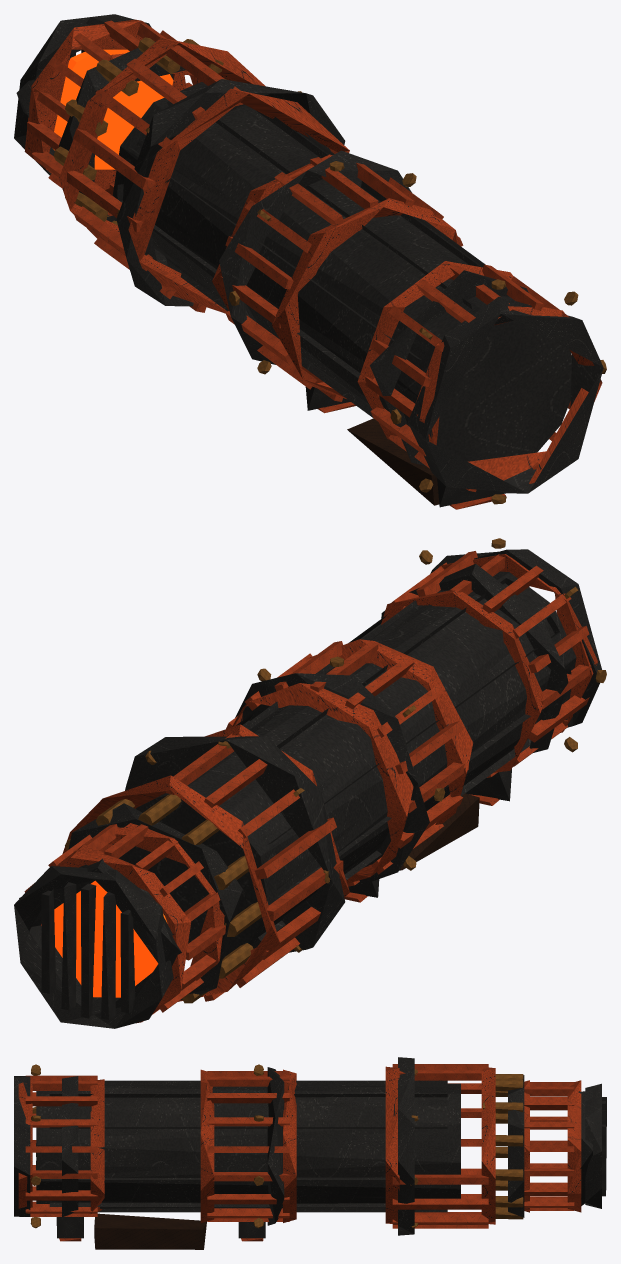
Rendered from kiln-focus-damaged-lod2.glb.
3 renders of one model, top to bottom at view 1: azimuth 30°, elevation 25°; view 2: azimuth 150°, elevation 25°; view 3: azimuth 270°, elevation 25°, orthographic. The views are drawn at different scales.
Visible parts, largest first — view 1: Forged barrel core, Machined barrel rim, Ceramic vent header, Machined barrel rim.003, Machined barrel rim.002, Ceramic vent header.003, Ceramic vent footer, Ceramic vent footer.001, Ceramic vent header.002, Machined barrel rim.001, Banked ember recessed chamber, Ceramic vent footer.002 (+27 smaller); view 2: Forged barrel core, Machined barrel rim.003, Muzzle lip, Ceramic vent footer.003, Ceramic vent footer, Machined barrel rim.002, Machined barrel rim.001, Machined barrel rim.004, Ceramic vent footer.002, Ceramic vent header.003, Ceramic vent footer.001, Banked ember recessed chamber (+36 smaller); view 3: Forged barrel core, Insulated palm grip, Machined barrel rim.003, Ceramic vent footer, Longitudinal iron stave.001, Machined barrel rim.002, Ceramic vent header, Ceramic vent header.003, Machined barrel rim.001, Muzzle lip, Machined barrel rim, Ceramic vent footer.003 (+48 smaller).
Boxes of the visible parts, box(x1,y1,x2,y2) form: Forged barrel core: box(112, 82, 571, 461); Machined barrel rim: box(408, 296, 603, 493); Ceramic vent header: box(128, 88, 349, 313); Machined barrel rim.003: box(116, 79, 345, 306); Machined barrel rim.002: box(219, 150, 411, 364); Ceramic vent header.003: box(271, 198, 459, 398); Ceramic vent footer: box(59, 37, 265, 238); Ceramic vent footer.001: box(24, 19, 185, 189); Ceramic vent header.002: box(416, 304, 602, 483); Machined barrel rim.001: box(370, 270, 528, 466); Banked ember recessed chamber: box(53, 49, 173, 169); Ceramic vent footer.002: box(357, 261, 513, 440); Forged barrel core: box(112, 571, 576, 956); Machined barrel rim.003: box(125, 736, 345, 952); Muzzle lip: box(14, 866, 173, 1028); Ceramic vent footer.003: box(232, 683, 413, 883); Ceramic vent footer: box(62, 775, 280, 1001); Machined barrel rim.002: box(235, 673, 429, 889); Machined barrel rim.001: box(381, 563, 568, 753); Machined barrel rim.004: box(68, 803, 242, 1000); Ceramic vent footer.002: box(381, 590, 544, 772); Ceramic vent header.003: box(308, 639, 473, 824); Ceramic vent footer.001: box(24, 844, 191, 1023); Banked ember recessed chamber: box(54, 880, 167, 997); Forged barrel core: box(36, 1083, 460, 1208); Insulated palm grip: box(94, 1213, 206, 1249); Machined barrel rim.003: box(398, 1057, 414, 1235); Ceramic vent footer: box(481, 1067, 495, 1224); Longitudinal iron stave.001: box(49, 1127, 447, 1140); Machined barrel rim.002: box(267, 1067, 284, 1225); Ceramic vent header: box(385, 1066, 399, 1223); Ceramic vent header.003: box(200, 1069, 214, 1222); Machined barrel rim.001: box(62, 1076, 78, 1217); Muzzle lip: box(585, 1083, 601, 1208); Machined barrel rim: box(14, 1076, 30, 1216); Ceramic vent footer.003: box(283, 1069, 296, 1222).
Bounding box in the file's own units: 0.2539 × 0.2815 × 0.8645.
Materials: 5 (4 with a texture image).
